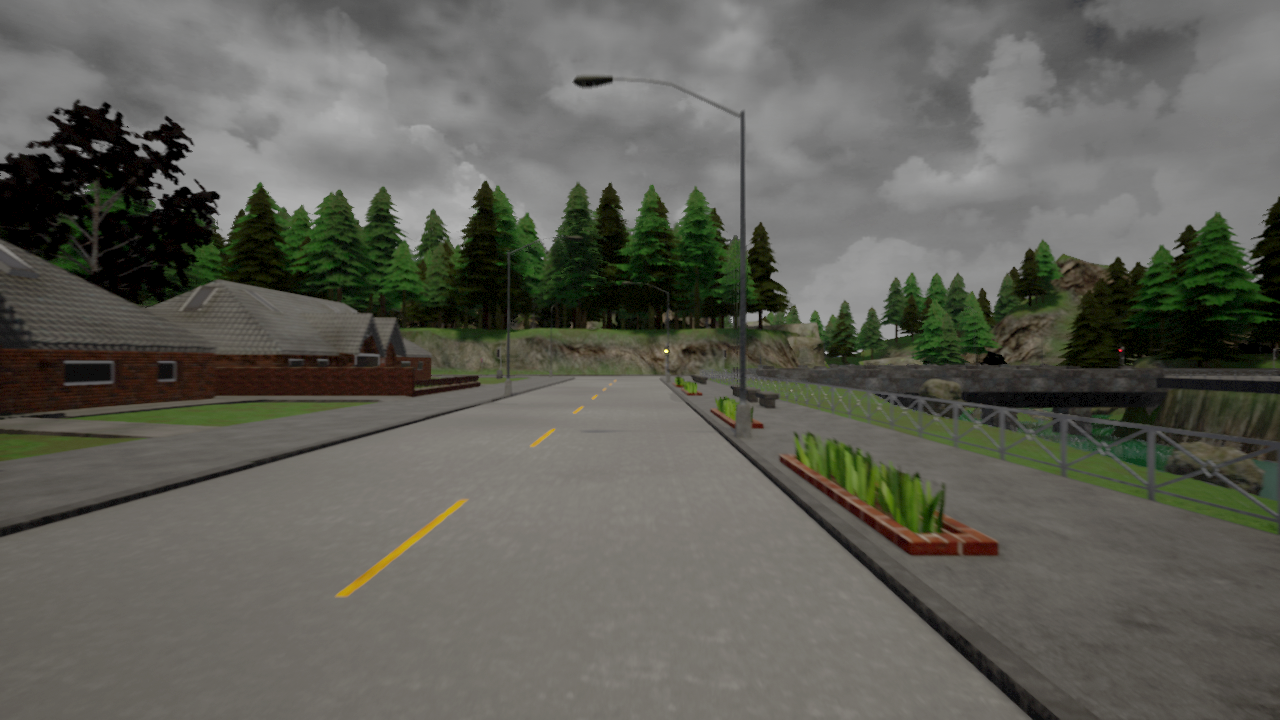yellow: (663, 345, 670, 357)
